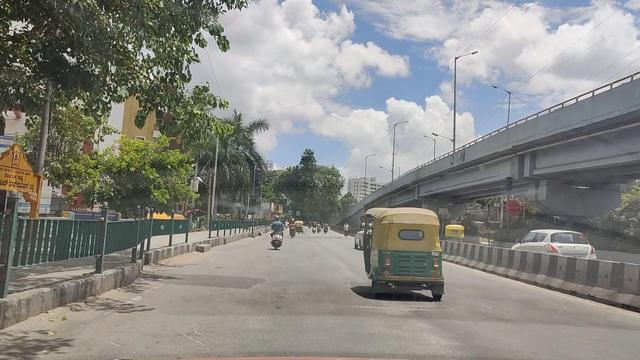LMV: (366, 209, 442, 301)
RoadDamages: (380, 306, 468, 360)
